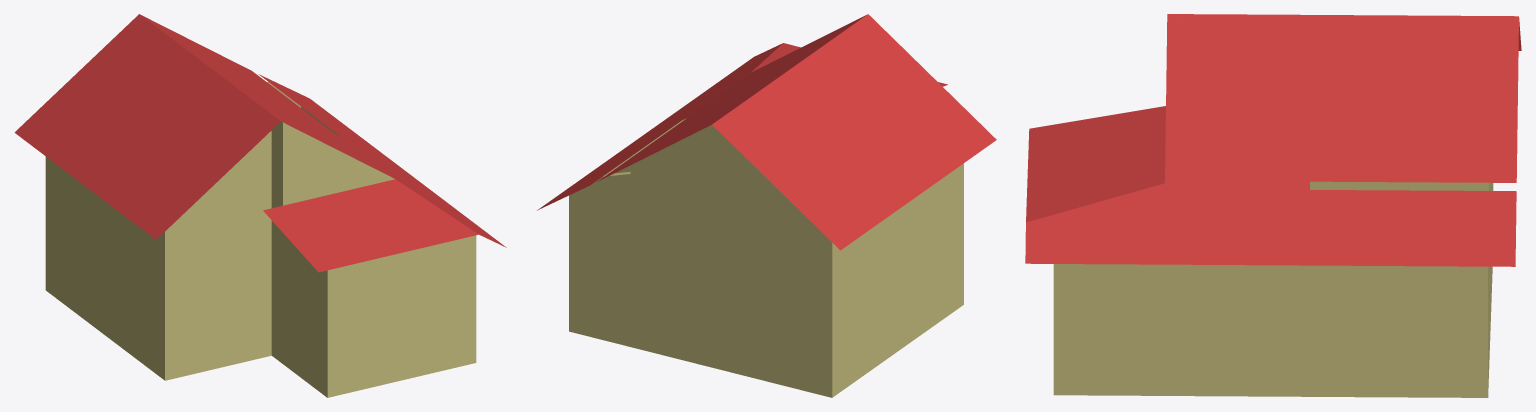
3 views of the same model, side by side, from view 1: azimuth 30°, elevation 25°; view 2: azimuth 150°, elevation 25°; view 3: azimuth 270°, elevation 25° (orthographic). The views are drawn at different scales.
Size of the model in its own units: 14.88 by 17.83 by 11.65.
